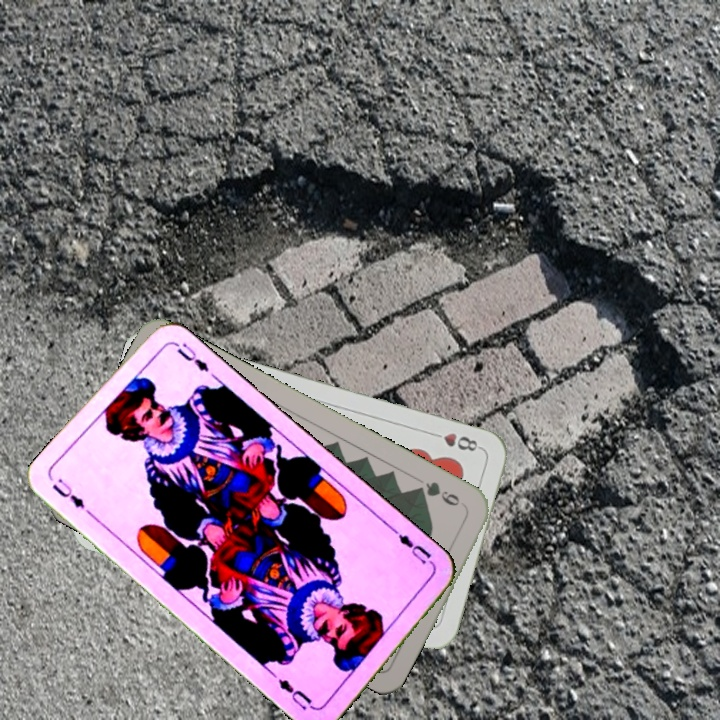EU: (389, 525, 437, 569), (47, 475, 87, 511)
G9: (411, 477, 469, 511)
H8: (426, 428, 484, 455)
